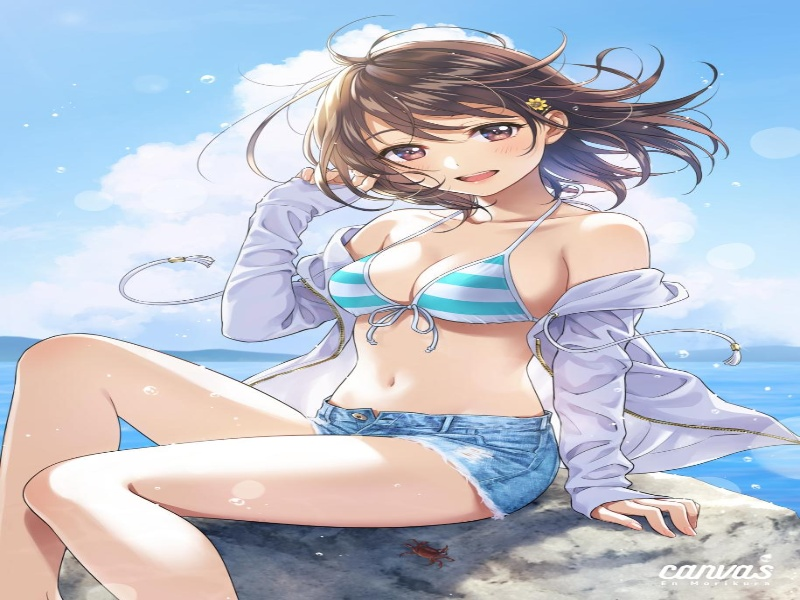person: (300, 39, 672, 223)
swimsuit: (319, 243, 570, 348)
